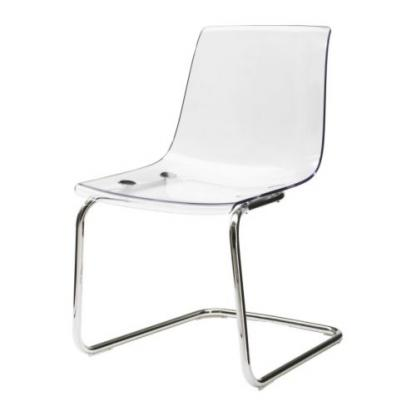Chair: (69, 20, 344, 390)
